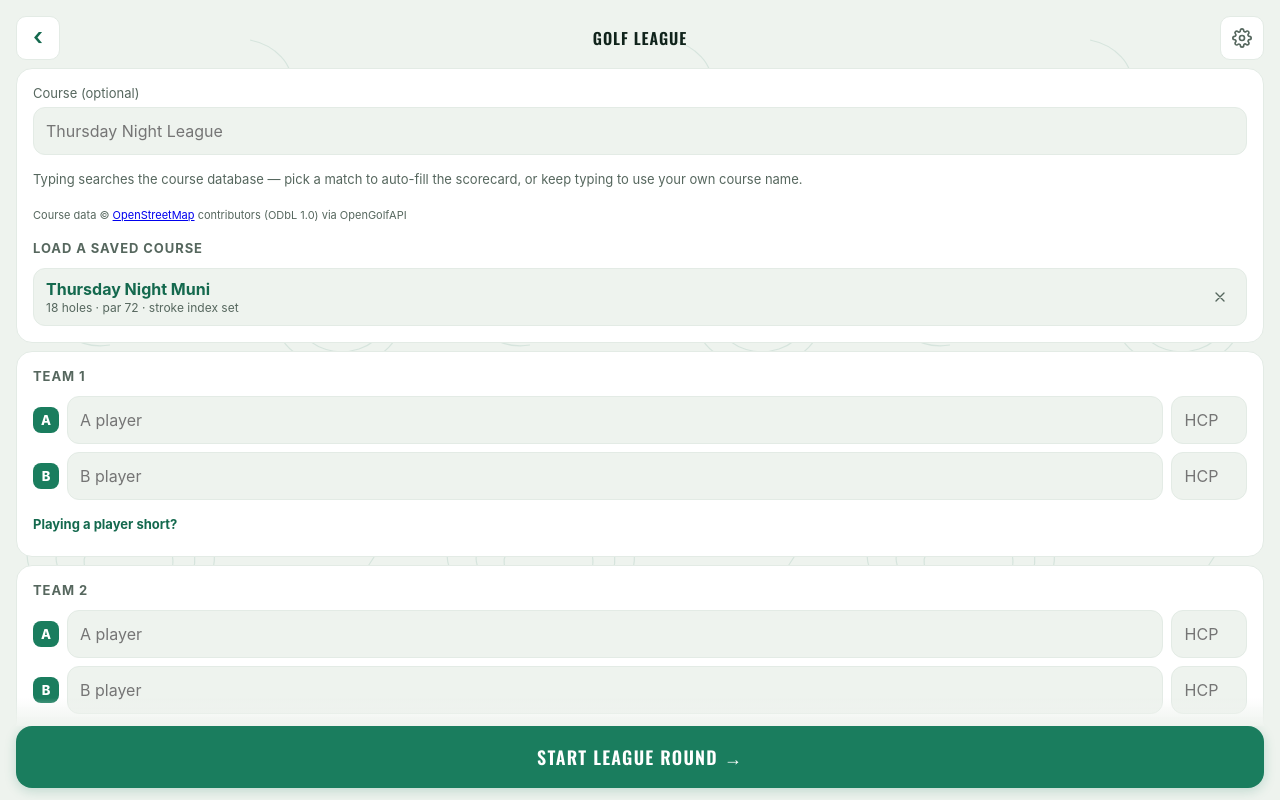
working out a handicap › applies 90% once they have three or more
The width and height of the screenshot is (1280, 800).
Type "Sub" into the 1st field with placeholder "A player" at (615, 420), box [67,396,1163,444]
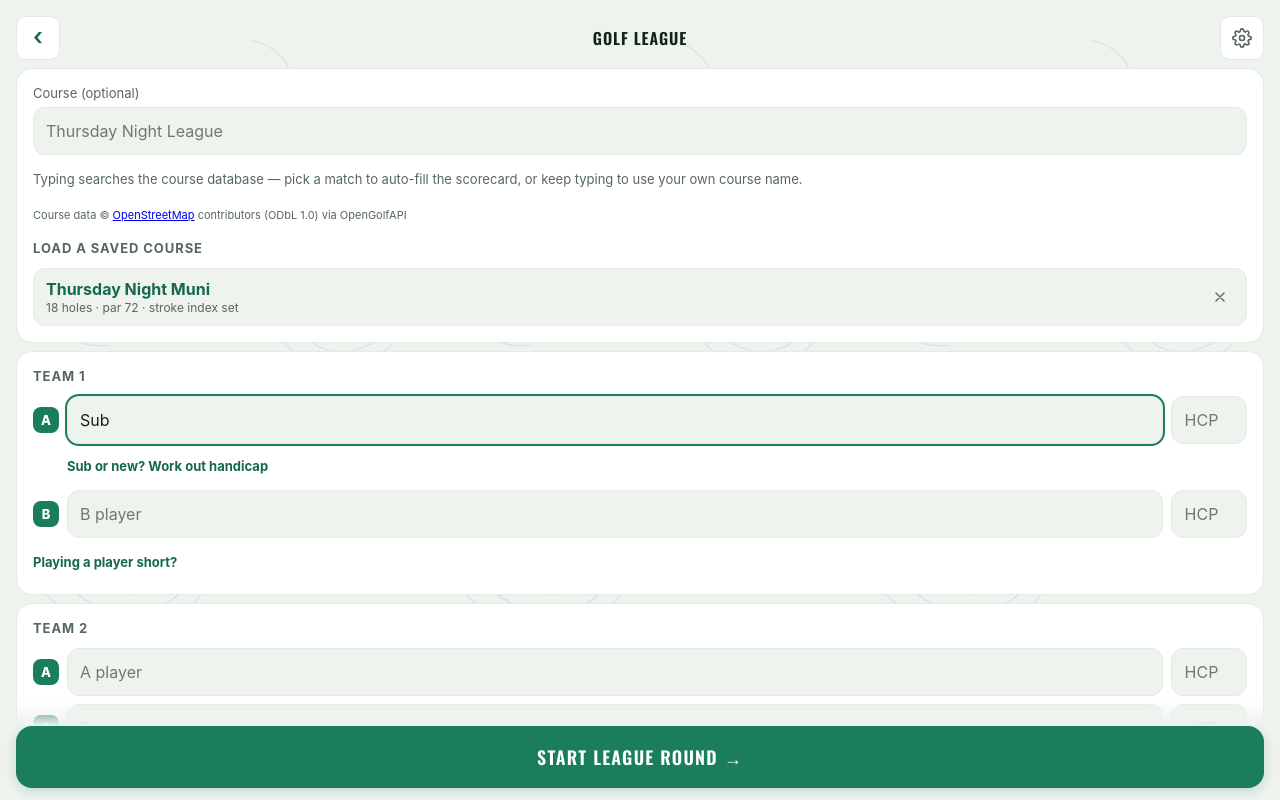
Click the button "Sub or new? Work out handicap" at (168, 466), box [67,450,268,482]
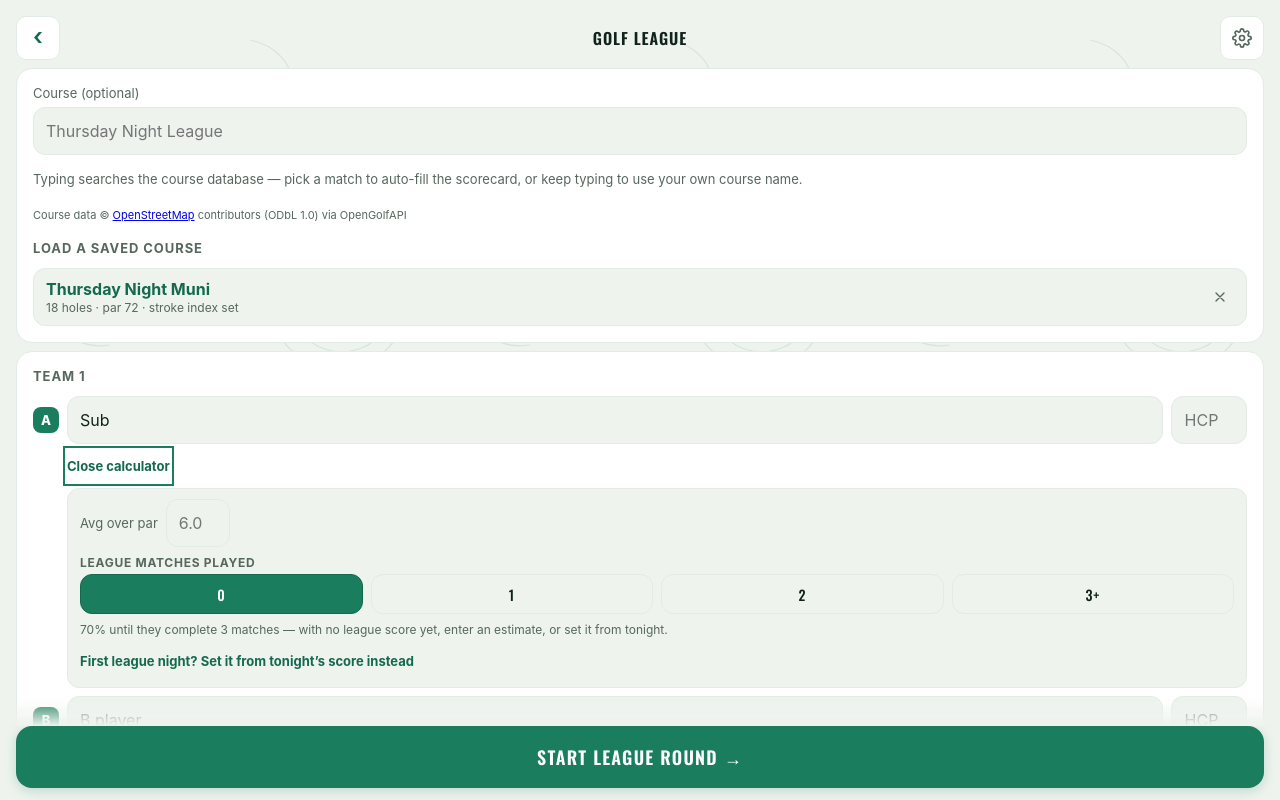
Type "6" into the number field named "Average over par for Sub" at (198, 523), box [166,499,230,547]
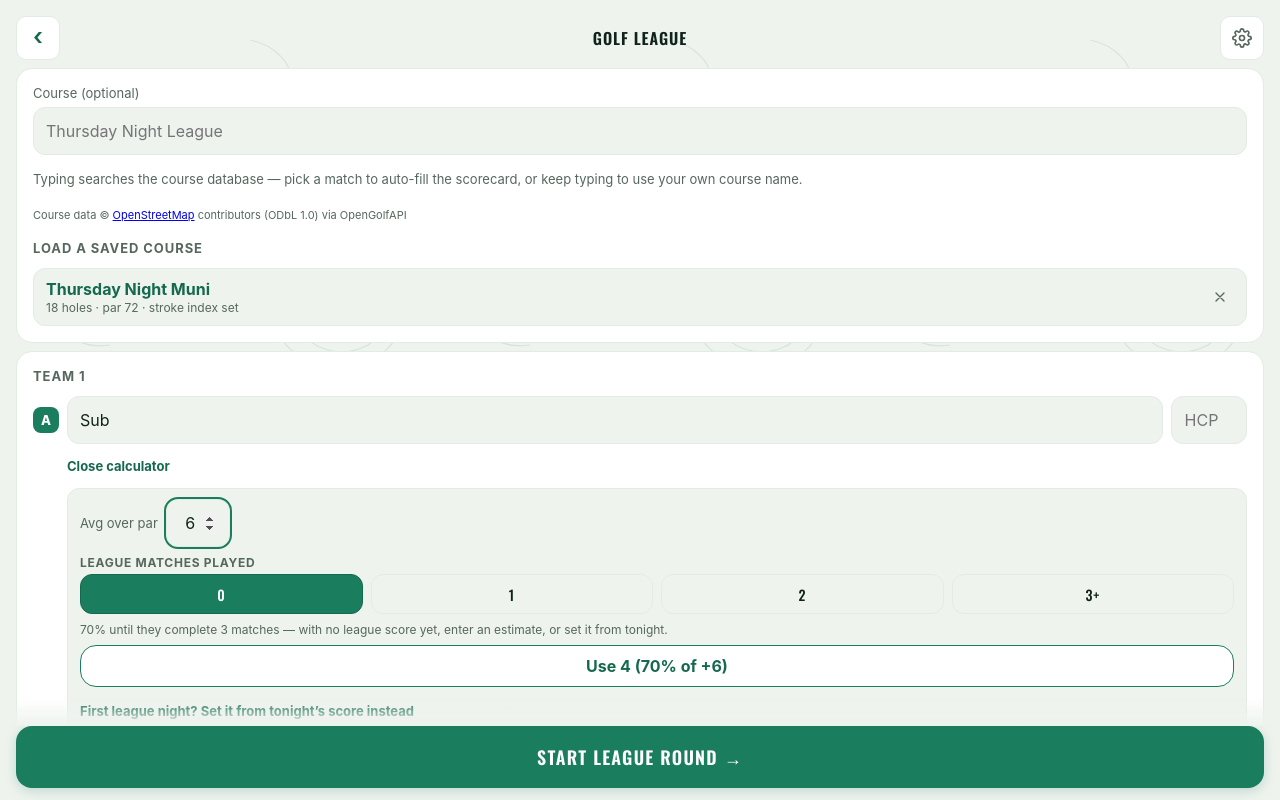
Click the button "3+" at (1093, 594), box [952,574,1234,614]
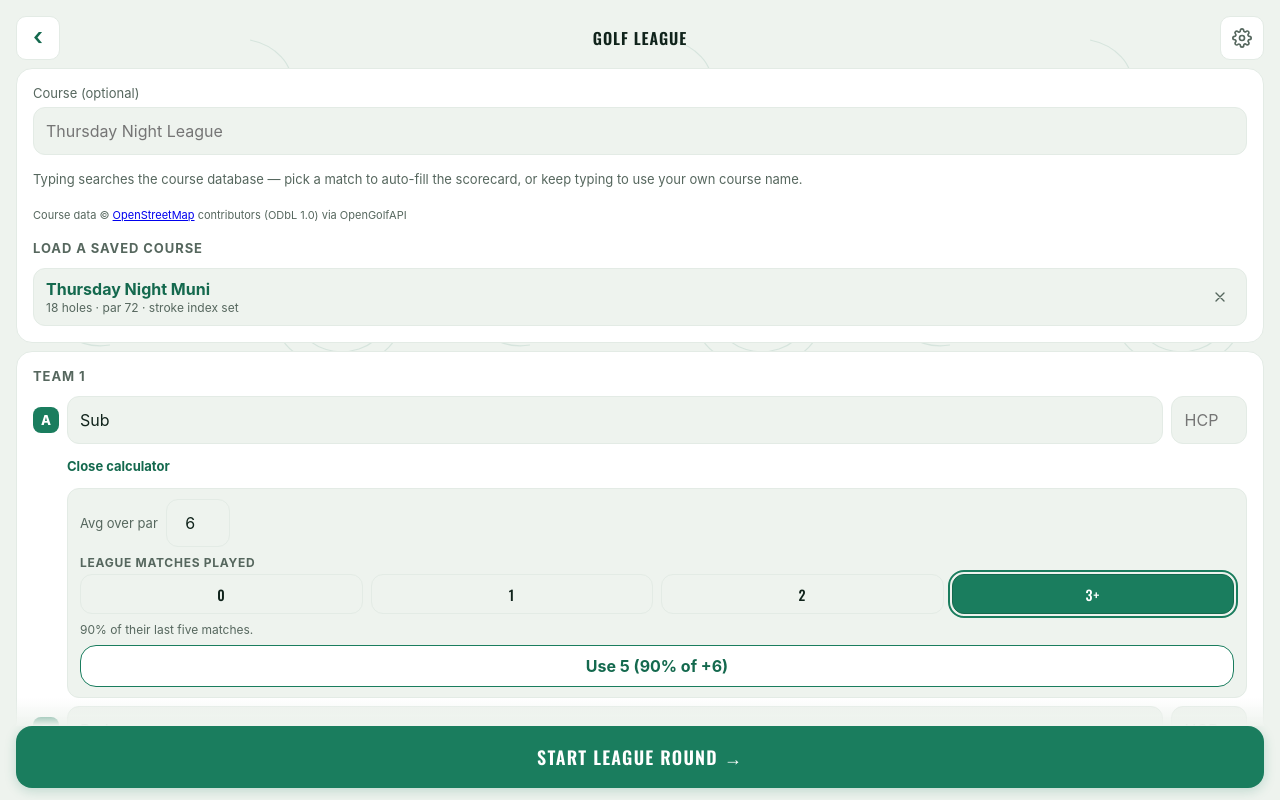
Expected: the button "Use 5 (90% of +6)" is shown, [80,645,1234,687]
